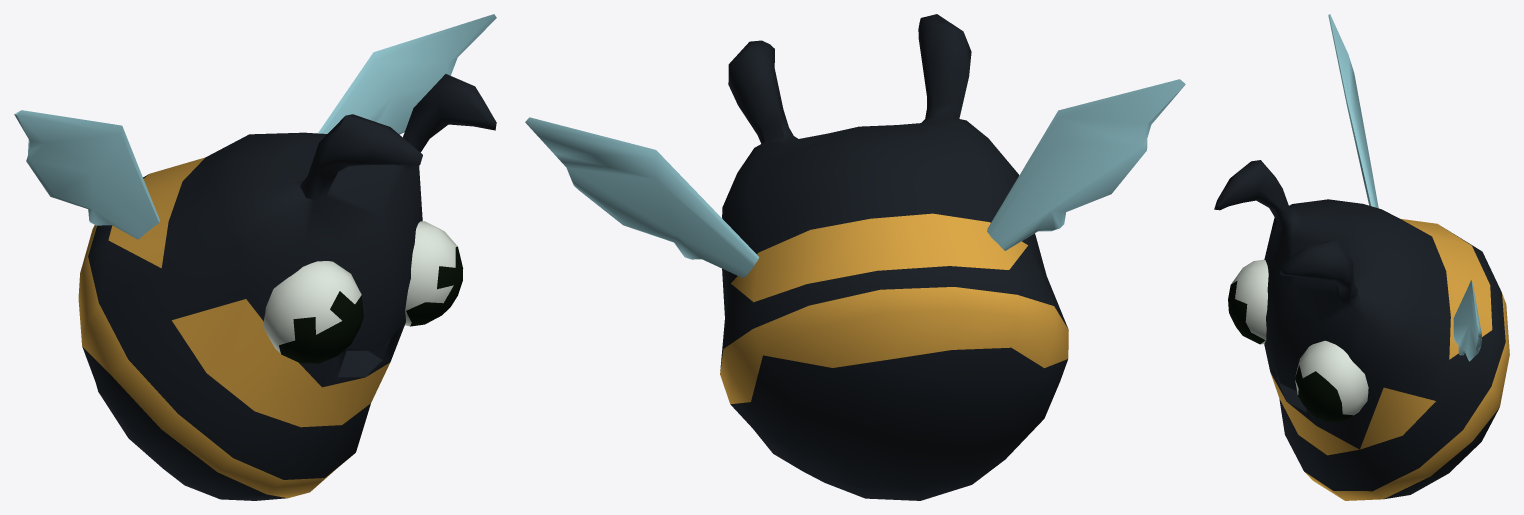
File: bee.glb
3 views of the same model, side by side, from view 1: azimuth 30°, elevation 25°; view 2: azimuth 150°, elevation 25°; view 3: azimuth 270°, elevation 25° (orthographic). The views are drawn at different scales.
Parts seen in each view (by area): view 1: Bee; view 2: Bee; view 3: Bee.
Boxes of the visible parts, x1=… form: Bee: x1=14, y1=14, x2=496, y2=500; Bee: x1=525, y1=14, x2=1185, y2=500; Bee: x1=1214, y1=14, x2=1509, y2=500.
Size of the model in its own units: 0.2402 by 0.1845 by 0.1328.
2 materials, 2 textured.
